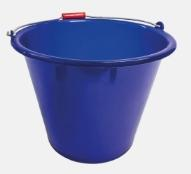SEAU: (3, 7, 184, 167)
